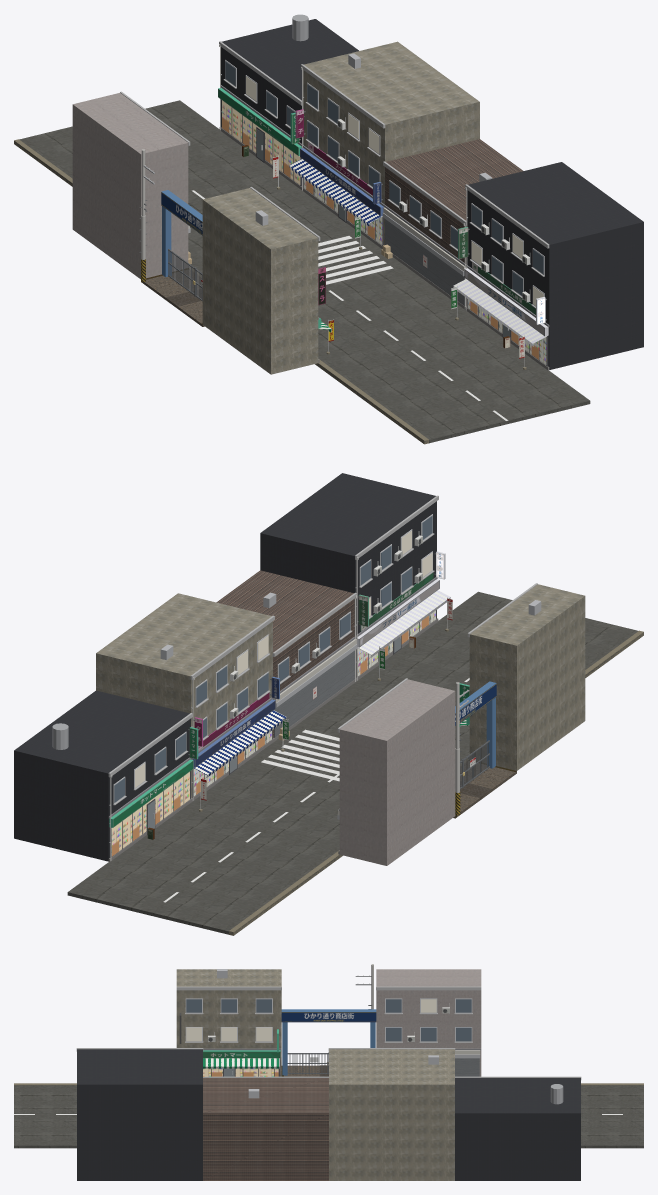
File: exit_locked.gltf
3 renders of one model, top to bottom at view 1: azimuth 30°, elevation 25°; view 2: azimuth 150°, elevation 25°; view 3: azimuth 270°, elevation 25°, orthographic. The views are drawn at different scales.
Parts seen in each view (by area): view 1: ExitLocked; view 2: ExitLocked; view 3: ExitLocked.
Boxes of the visible parts, bbox=[...] form: ExitLocked: bbox=[14, 14, 643, 444]; ExitLocked: bbox=[14, 473, 643, 935]; ExitLocked: bbox=[14, 964, 643, 1180].
Bounding box in the file's own units: 26.32 × 11.15 × 60.
Materials: 69 (41 with a texture image).
